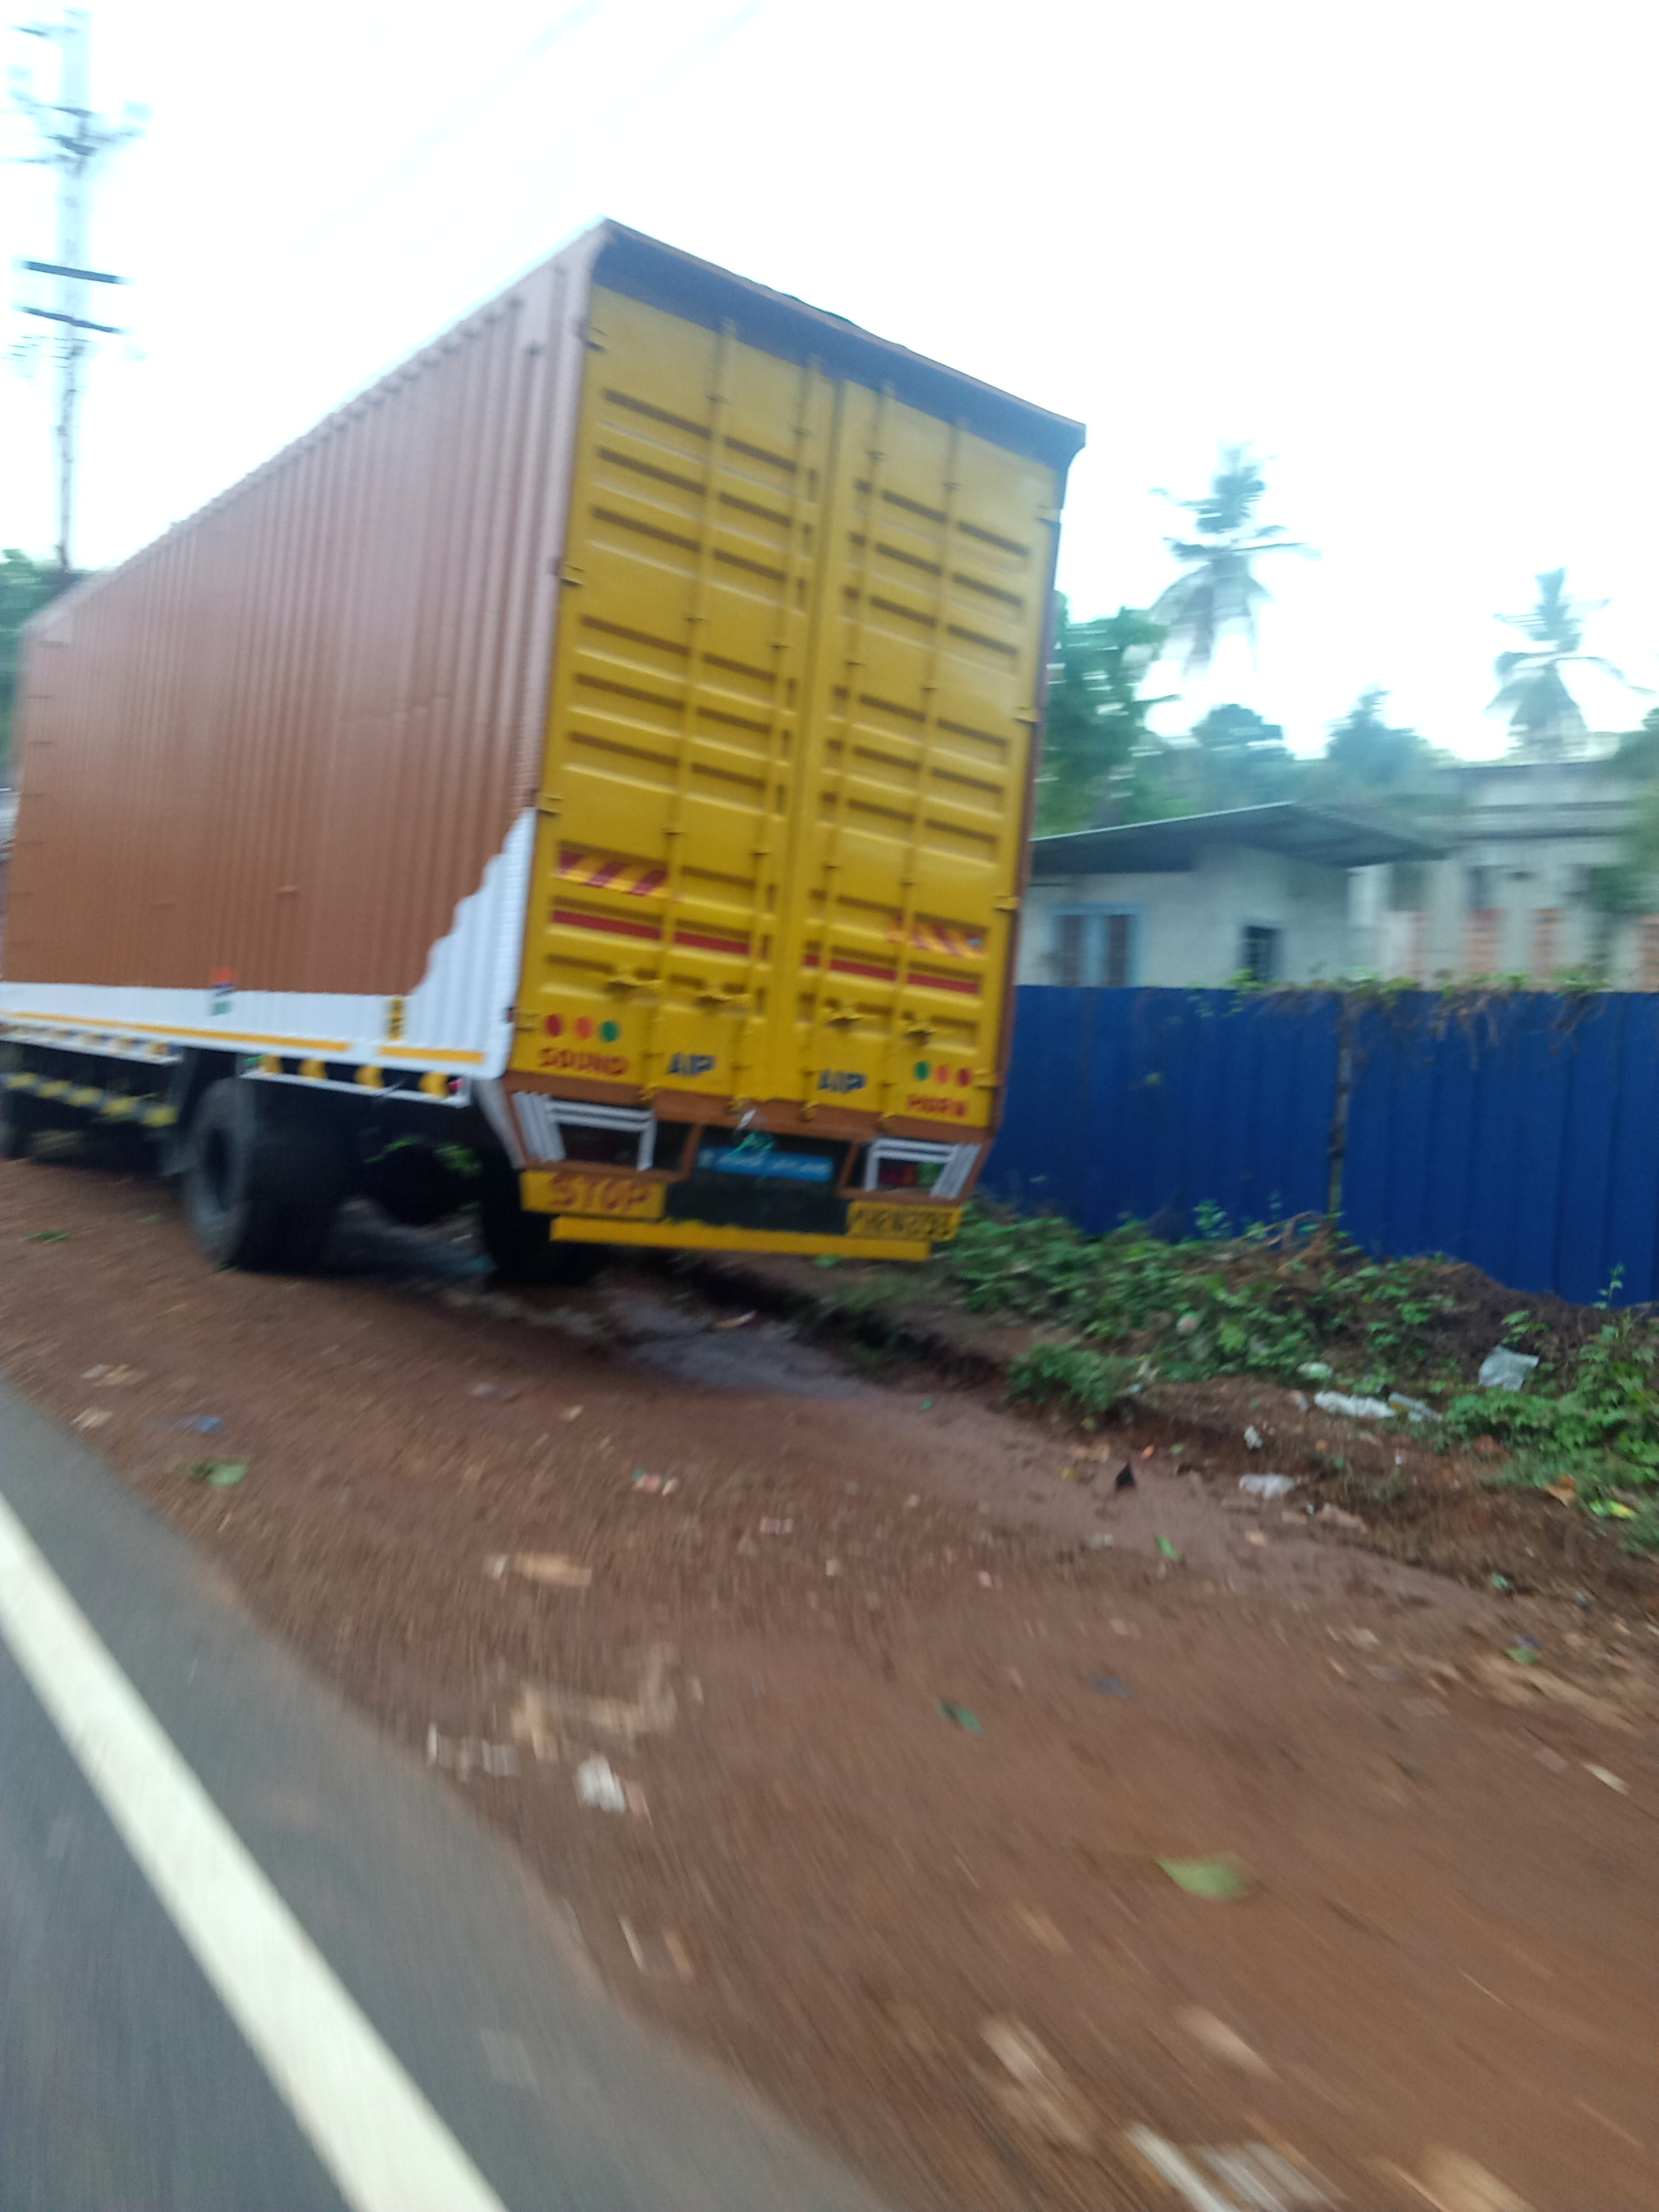truck: (0, 211, 1094, 1292)
